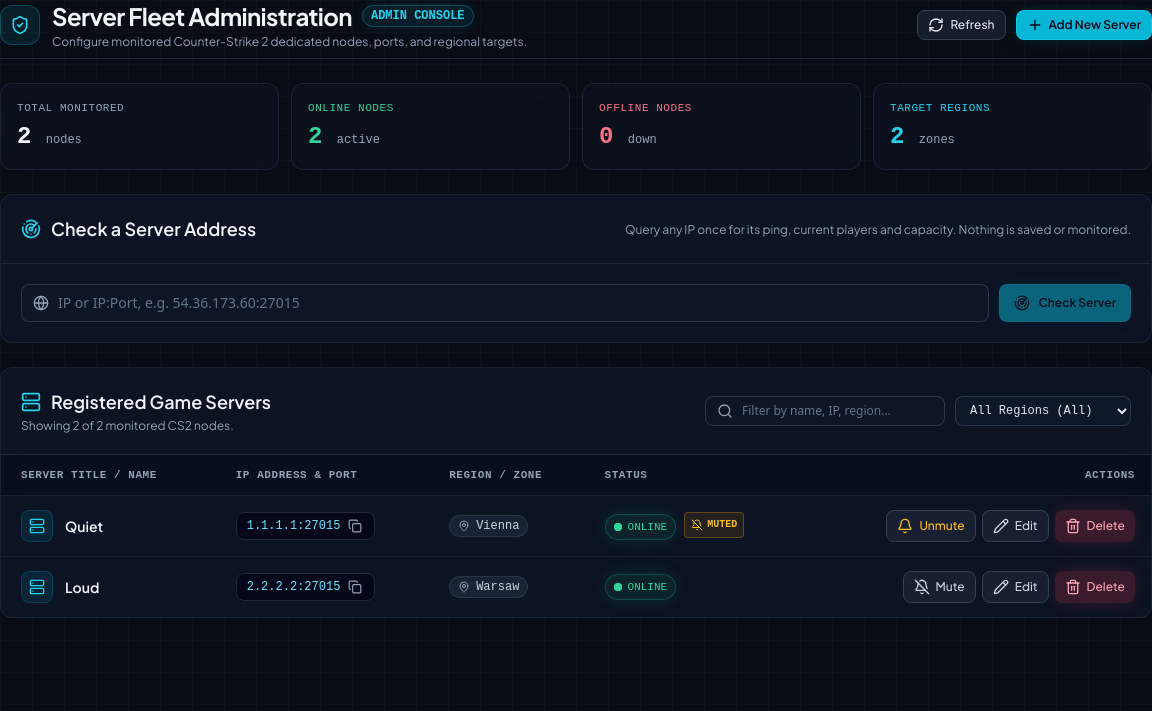
Test: AdminDashboardView › shows the ping, players and capacity of a probed address
Step 1. Type "9.9.9.9" into the field named "Server address to check" → (505, 302), box [21,284,990,322]
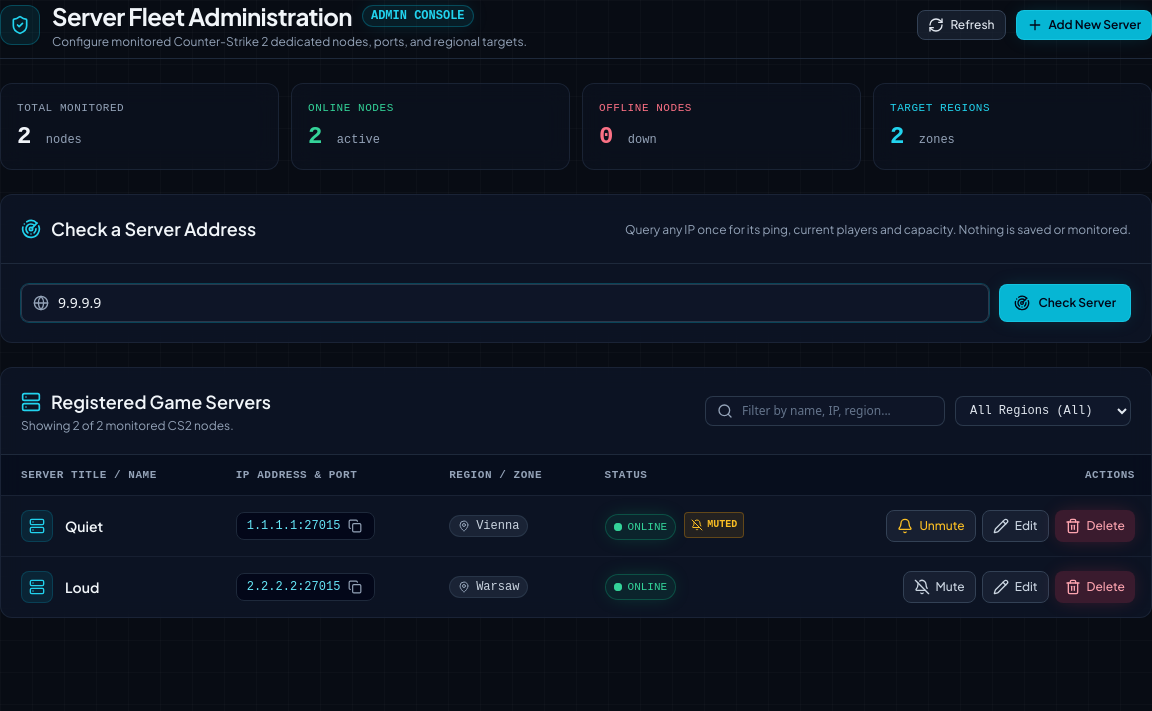
Step 2. Click the button "Check Server" → (1065, 302), box [1000,284,1131,322]
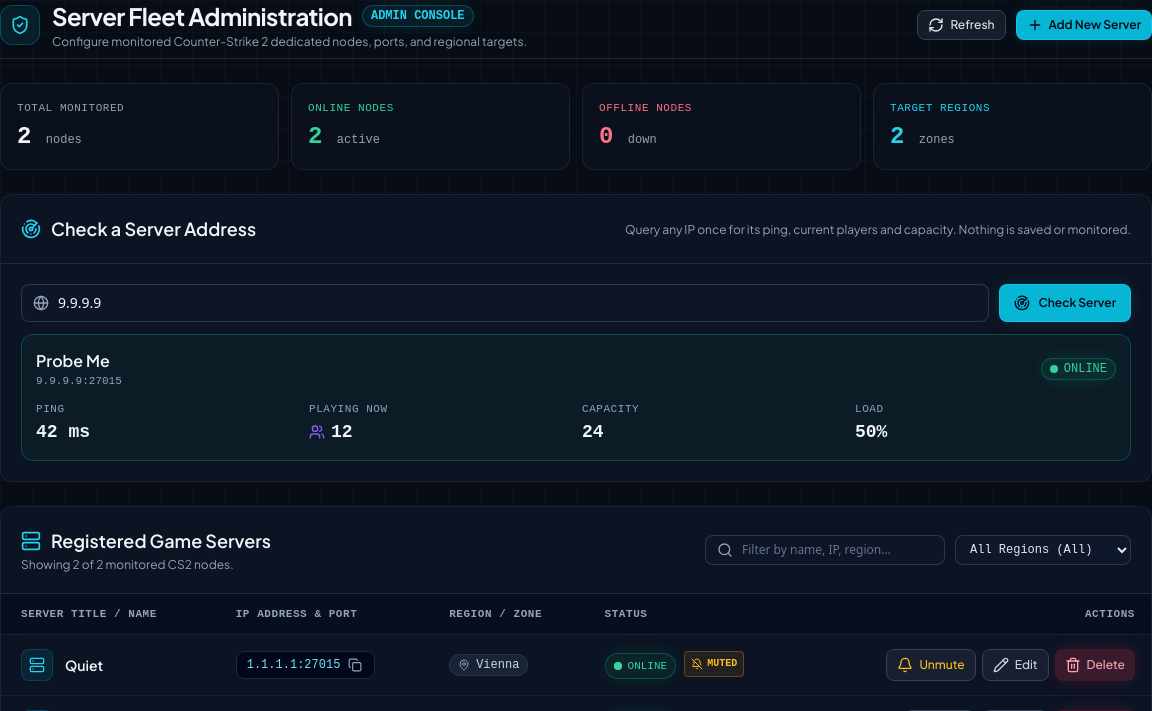
Expected: the element with test id "probe-result" shows "Probe Me", [36,350,110,370]
Expected: the element with test id "probe-result" shows "42 ms", [21,334,1131,460]
Expected: the element with test id "probe-result" shows "12", [331,422,353,442]
